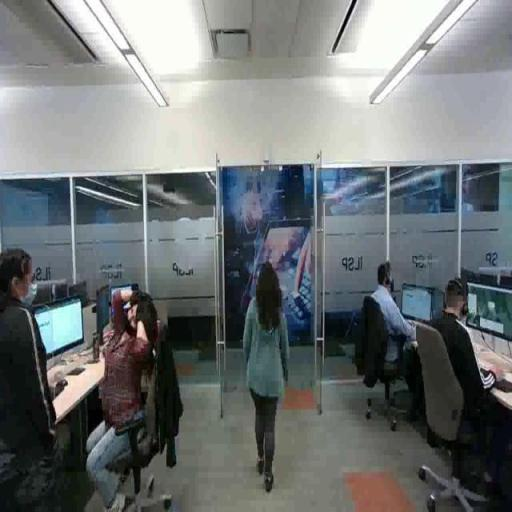person: (433, 280, 512, 491), (1, 250, 62, 512), (88, 291, 159, 512), (244, 263, 291, 493), (373, 263, 417, 364)
